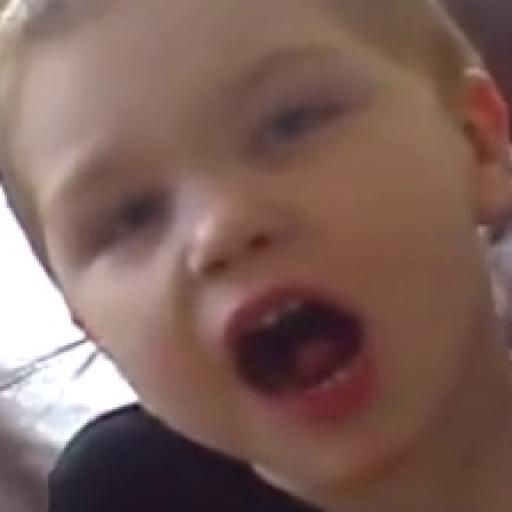Autism: (0, 21, 492, 489)
